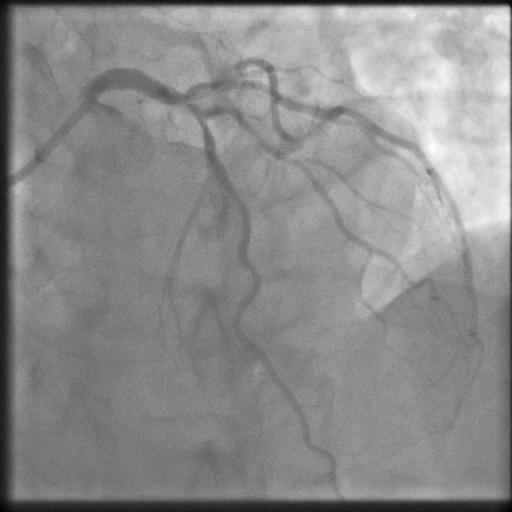Stenosis: (183, 97, 213, 132)
